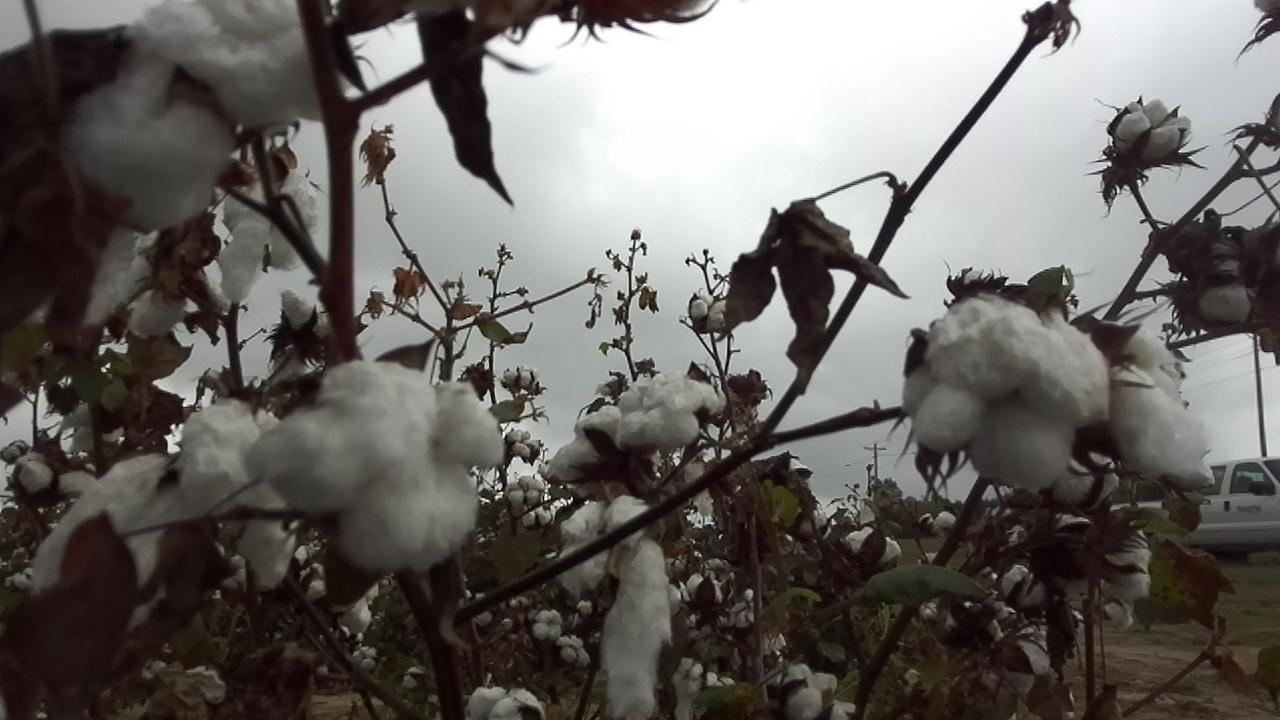cotton_ready: (72, 0, 333, 230), (248, 359, 502, 567), (900, 292, 1112, 491), (39, 455, 204, 627), (564, 497, 669, 718), (179, 405, 289, 585), (221, 164, 325, 305), (1112, 332, 1215, 474), (81, 225, 182, 342), (1057, 509, 1150, 610), (617, 372, 720, 445), (550, 407, 624, 479), (1114, 99, 1192, 159), (761, 457, 817, 531), (309, 575, 380, 632), (785, 665, 857, 720), (282, 290, 347, 349), (997, 635, 1055, 692), (17, 459, 97, 495), (677, 657, 720, 720), (841, 527, 904, 566), (471, 689, 542, 720)
